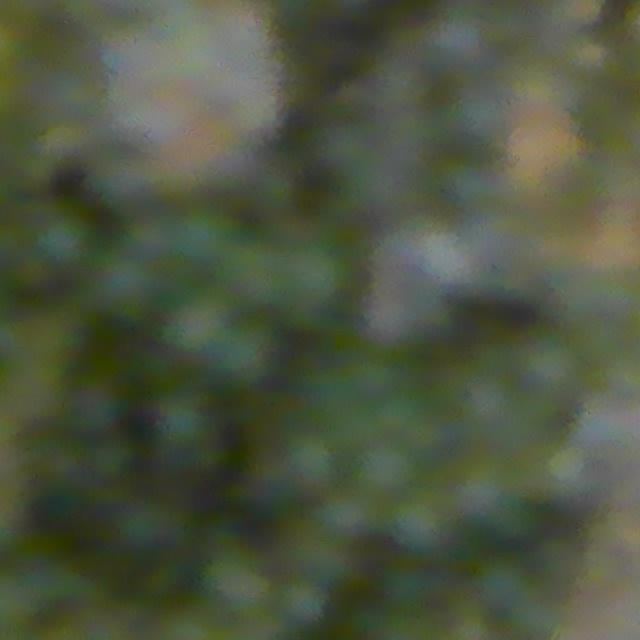SeaGrape: (440, 78, 516, 155), (207, 315, 282, 391), (149, 391, 221, 466), (24, 204, 94, 271), (388, 489, 451, 554), (317, 485, 381, 543), (357, 438, 416, 495)
